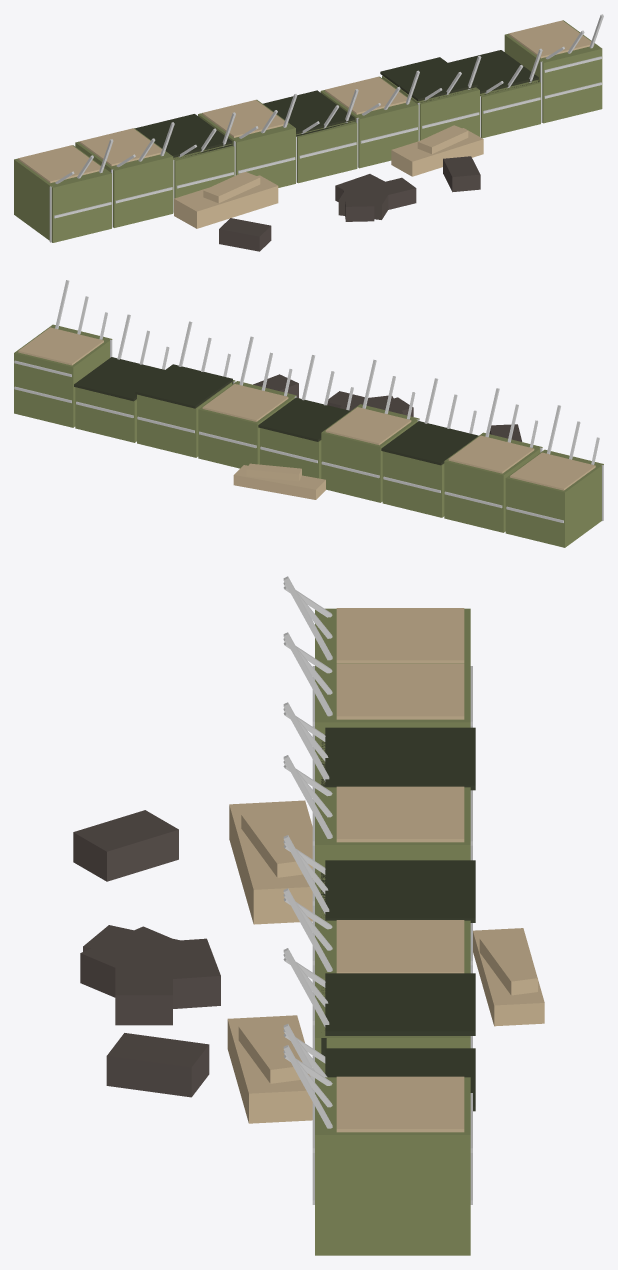
File: SM_MuroHesco_v4_Red_e2_MuyDanado_LOD0.fbx
3 renders of one model, top to bottom at view 1: azimuth 30°, elevation 25°; view 2: azimuth 150°, elevation 25°; view 3: azimuth 270°, elevation 25°, orthographic. The views are drawn at different scales.
Visible parts, largest first — view 1: SM_bloques.muro_hesco_estados_v18_LOD0; view 2: SM_bloques.muro_hesco_estados_v18_LOD0; view 3: SM_bloques.muro_hesco_estados_v18_LOD0.
Part boxes in pixels (box(x1,y1,x2,y2)): SM_bloques.muro_hesco_estados_v18_LOD0: box(14, 14, 603, 251); SM_bloques.muro_hesco_estados_v18_LOD0: box(14, 280, 603, 547); SM_bloques.muro_hesco_estados_v18_LOD0: box(73, 576, 544, 1255).
Bounding box in the file's own units: 9.98 × 1.75 × 3.7.
